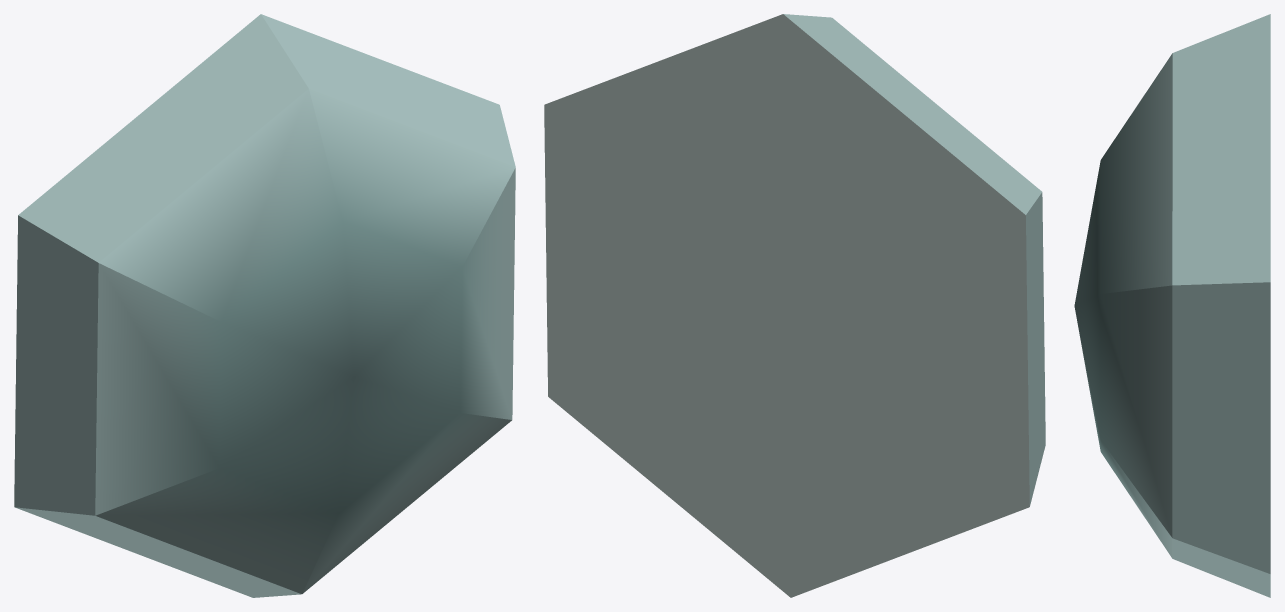
File: HolidayCandleDishSilver.fbx
3 views of the same model, side by side, from view 1: azimuth 30°, elevation 25°; view 2: azimuth 150°, elevation 25°; view 3: azimuth 270°, elevation 25° (orthographic).
Parts seen in each view (by area): view 1: HolidayCandleDishSilver; view 2: HolidayCandleDishSilver; view 3: HolidayCandleDishSilver.
Part boxes in pixels (x1,y1,x2,y2): HolidayCandleDishSilver: (14, 14, 515, 597); HolidayCandleDishSilver: (544, 14, 1045, 597); HolidayCandleDishSilver: (1074, 14, 1270, 597).
Bounding box in the file's own units: 24.15 × 27.67 × 8.36.
